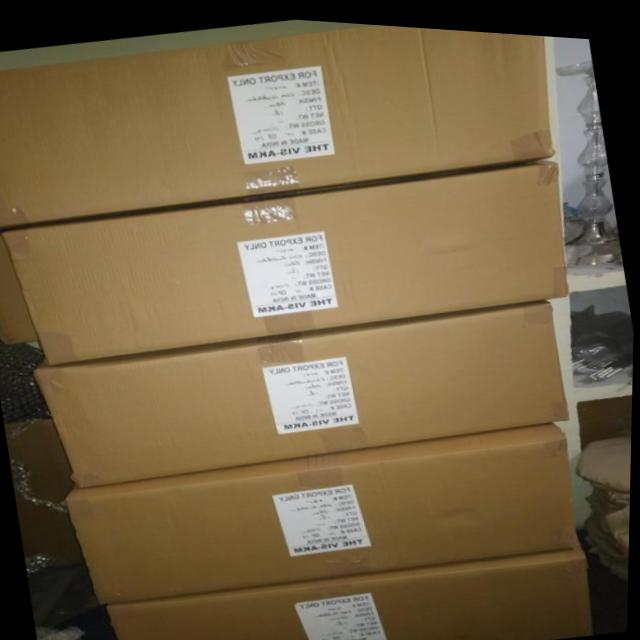box: (1, 147, 576, 364), (0, 19, 560, 229), (33, 291, 569, 484), (67, 415, 580, 601), (107, 536, 594, 640)
